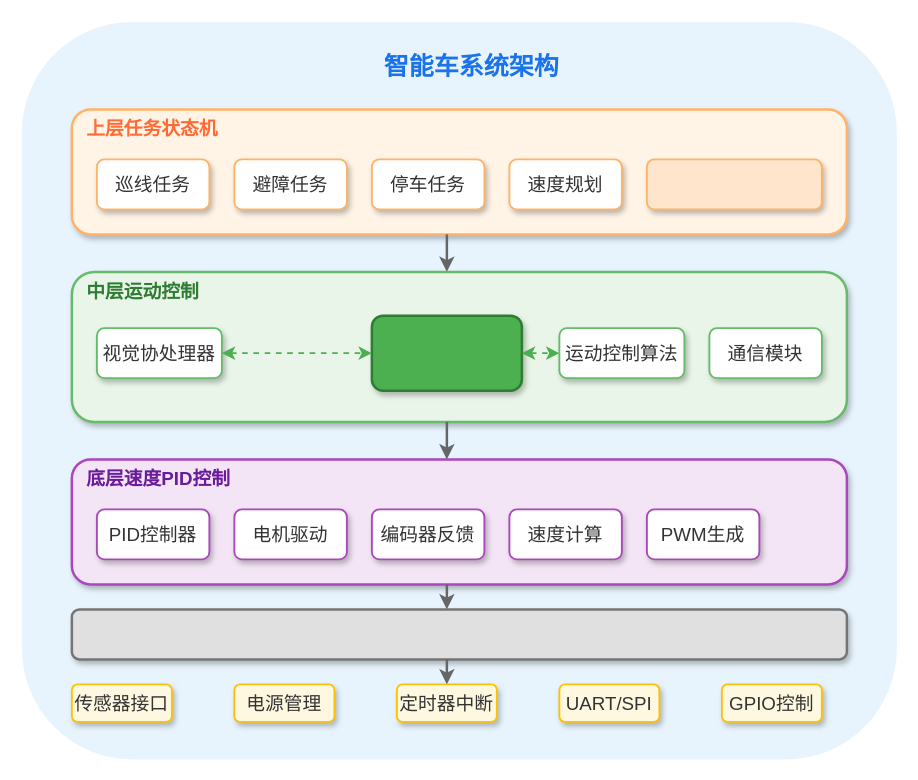
Image size: 918x780. Some labels were removed from this diagram. Each missing label, with the centre of its shape:
"MSPM0G3507 主控制器" belongs at point 447,354.
"实时调度器" belongs at point 735,185.
"硬件抽象层 (HAL)" belongs at point 460,635.
